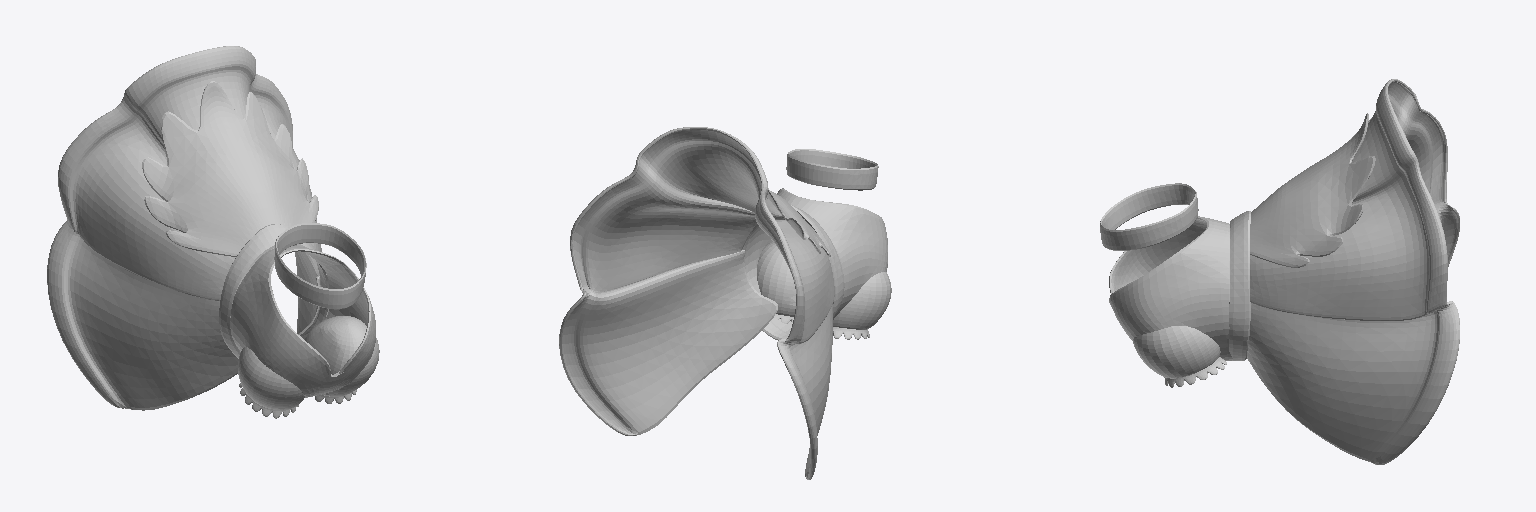
File: dress2.obj
3 views of the same model, side by side, from view 1: azimuth 30°, elevation 25°; view 2: azimuth 150°, elevation 25°; view 3: azimuth 270°, elevation 25° (orthographic).
Visible parts, largest first — view 1: cancan_dress_body0_model0.001; view 2: cancan_dress_body0_model0.001; view 3: cancan_dress_body0_model0.001.
Part boxes in pixels (x1,y1,x2,y2): cancan_dress_body0_model0.001: (47, 46, 379, 418); cancan_dress_body0_model0.001: (559, 127, 891, 479); cancan_dress_body0_model0.001: (1100, 79, 1459, 464).
Size of the model in its own units: 23.93 by 30.44 by 29.96.